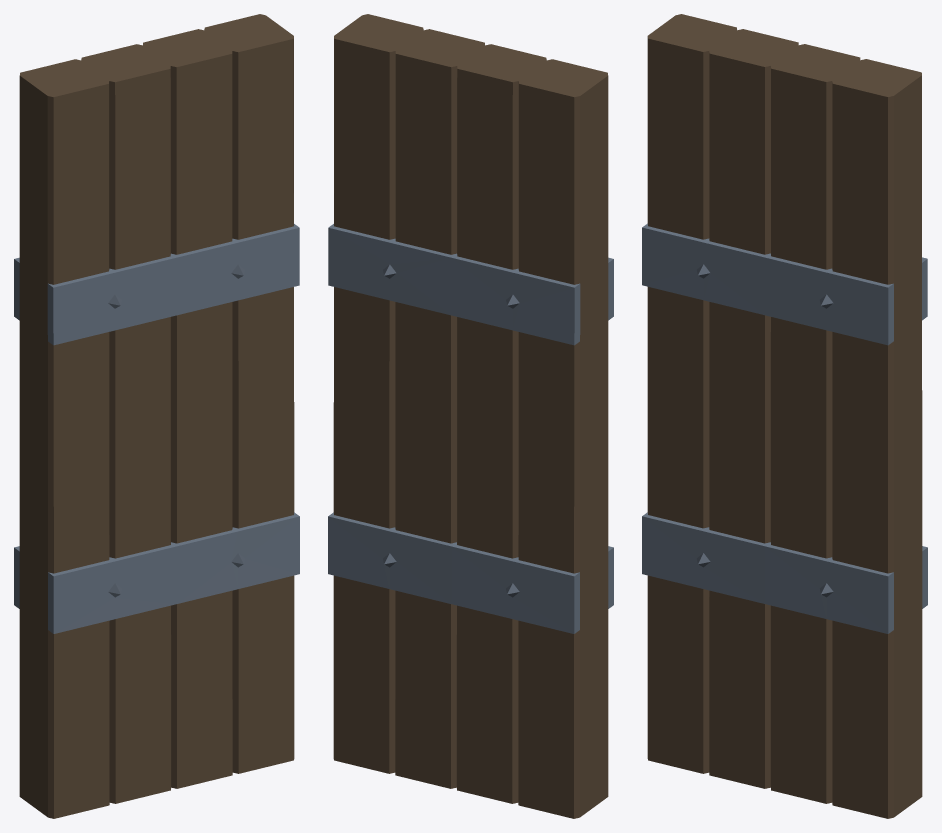
File: gatedoor.fbx
The picture shows the model from 3 angles, left to right: view 1: azimuth 30°, elevation 25°; view 2: azimuth 150°, elevation 25°; view 3: azimuth 330°, elevation 25°; orthographic projection.
Parts seen in each view (by area): view 1: Door_L; view 2: Door_L; view 3: Door_L.
Boxes of the visible parts, bbox=[...] form: Door_L: bbox=[14, 14, 299, 818]; Door_L: bbox=[328, 14, 613, 818]; Door_L: bbox=[642, 14, 927, 818].
Size of the model in its own units: 1.25 by 3.5 by 0.4478.
